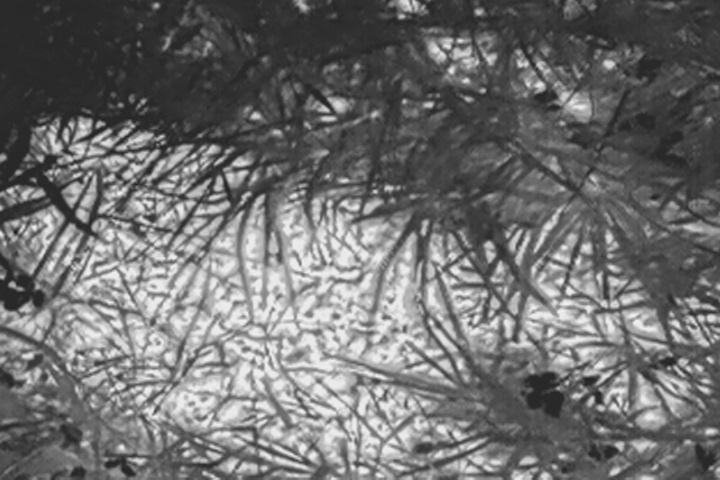landmine: (55, 105, 517, 480)
